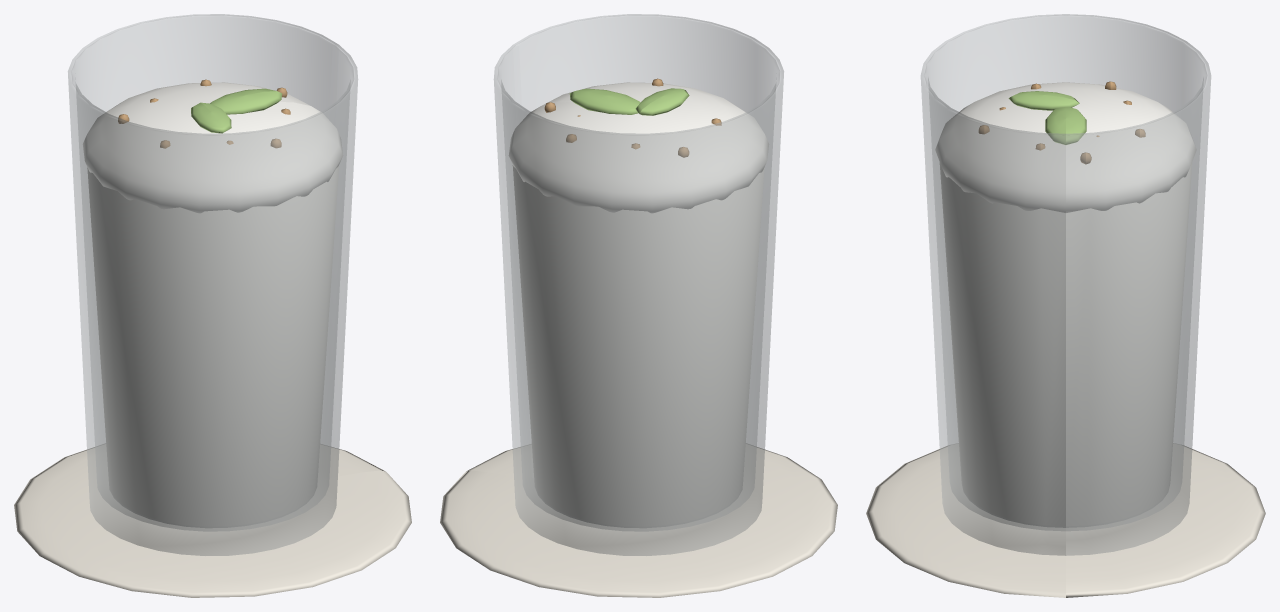
The model's file is masala-lassi.glb.
3 views of the same model, side by side, from view 1: azimuth 30°, elevation 25°; view 2: azimuth 150°, elevation 25°; view 3: azimuth 270°, elevation 25° (orthographic).
Parts seen in each view (by area): view 1: masala-lassi; view 2: masala-lassi; view 3: masala-lassi.
Boxes of the visible parts, <box> form: masala-lassi: <box>14,14,411,597</box>; masala-lassi: <box>440,14,837,597</box>; masala-lassi: <box>866,14,1265,597</box>.
Bounding box in the file's own units: 0.11 × 0.136 × 0.11.
